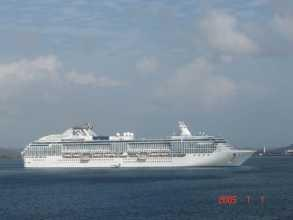youlun: (19, 121, 260, 170)
